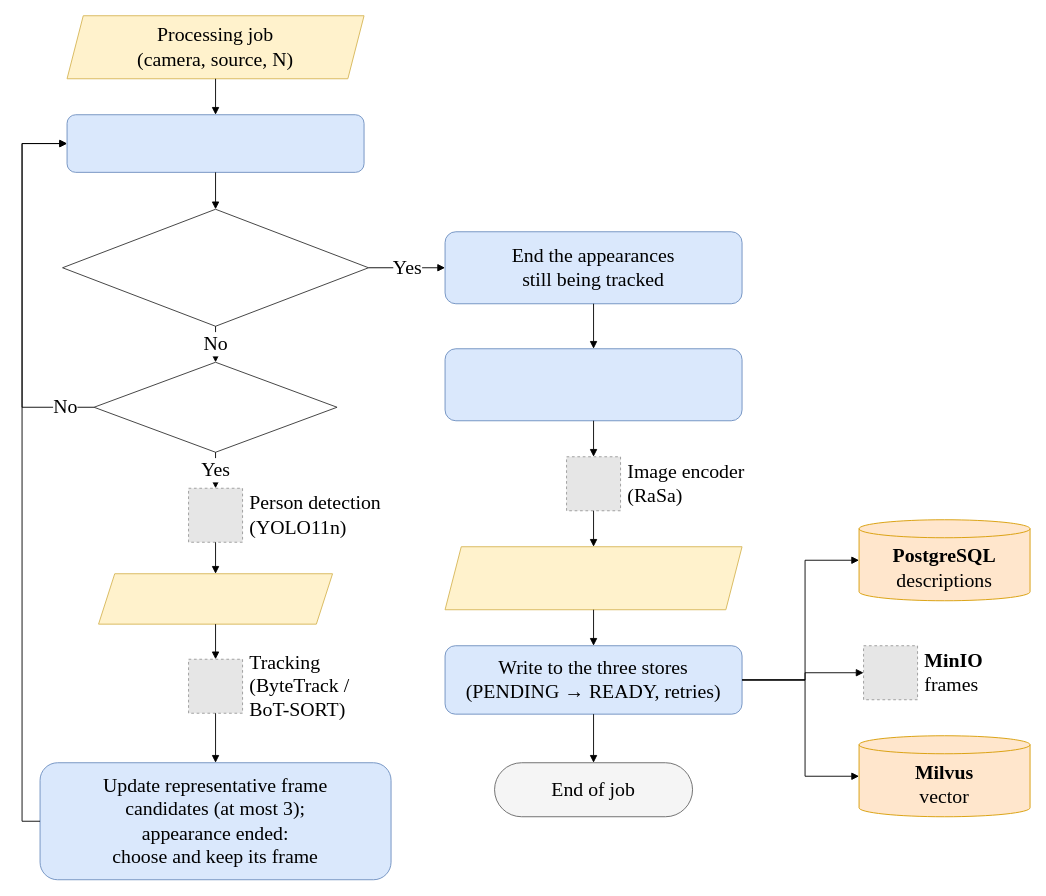
The diagram is 1046 pixels wide and 896 high, and some of its shapes have lost their labels. Grey dashed boxes stand in for pictures. Here are the shapes that lost their labels. From the top down, the box of each, then its label:
(66, 114, 364, 172): Read and decode the next frame
(62, 208, 369, 326): End of source or session limit?
(444, 348, 742, 421): For each appearance: crop the person temporarily (widen 5%)
(93, 361, 337, 452): i mod N = 0 ?
(444, 546, 742, 610): 256-d vector, frame, bounding box
(98, 573, 333, 624): Person boxes
